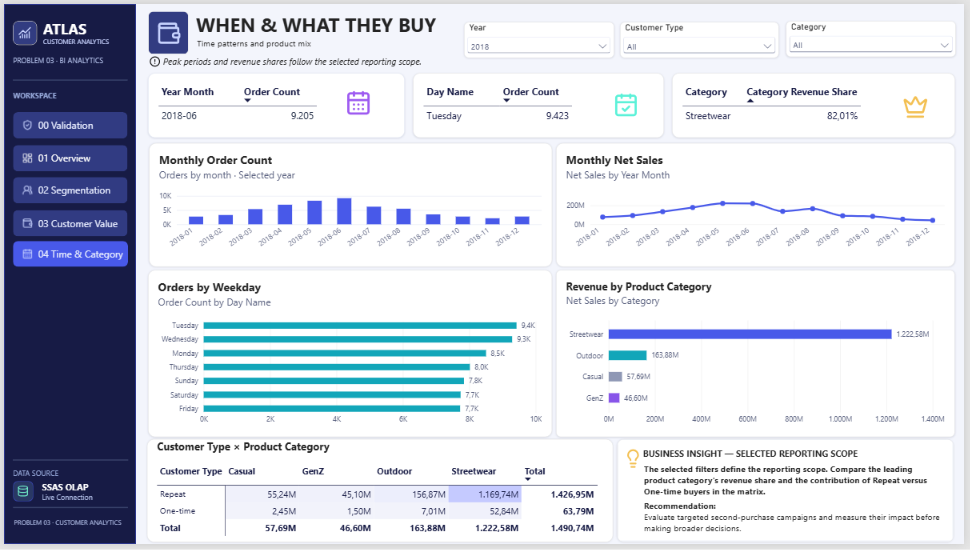

What the dashboard file says about the page in this screenshot:
{"tool":"powerbi","page":{"name":"04_Time_Category","canvas":[1600,900],"ordinal":4},"visuals":[{"type":"shape","box":[0,0,220,900],"z":0,"group":"g1"},{"type":"image","box":[238.3,86.3,26.7,18.3],"z":0,"group":"g3"},{"type":"columnChart","title":"Monthly Order Count","fields":{"Category":["Date.Year Month"],"Y":["V FACT ORDER OFFICIAL.Order Count"]},"box":[241.7,231.7,671.7,206.7],"z":0},{"type":"textbox","box":[65.5,24.3,134.3,32],"z":1000,"group":"g1"},{"type":"textbox","box":[264.5,84.4,816.7,28.3],"z":1000,"group":"g3"},{"type":"lineChart","title":"Monthly Net Sales","fields":{"Category":["Date.Year Month"],"Y":["V FACT SALES LINE OFFICIAL.Net Sales"]},"box":[920,231.7,665,206.7],"z":1000},{"type":"actionButton","box":[15.1,180,190.9,44.1],"z":2000,"group":"g1"},{"type":"clusteredBarChart","title":"Orders by Weekday","fields":{"Category":["Date.Day Name"],"Y":["V FACT ORDER OFFICIAL.Order Count"]},"box":[240,443.7,673.3,278.3],"z":2000},{"type":"actionButton","box":[14.7,395.7,191.7,42.9],"z":3000,"group":"g1"},{"type":"clusteredBarChart","title":"Revenue by Product Category","fields":{"Category":["Product.Category"],"Y":["V FACT SALES LINE OFFICIAL.Net Sales"]},"box":[920,443.7,665,278.3],"z":3000},{"type":"actionButton","box":[15.1,288.3,190.9,44.1],"z":4000,"group":"g1"},{"type":"pivotTable","fields":{"Columns":["Product.Category"],"Rows":["Customer.Customer Type"],"Values":["V FACT SALES LINE OFFICIAL.Net Sales"]},"box":[0,915,1920,165],"z":4000},{"type":"slicer","fields":{"Values":["Date.Year"]},"box":[766.7,30,250,60],"z":5000},{"type":"actionButton","box":[15.1,342.5,190.9,44.1],"z":5000,"group":"g1"},{"type":"slicer","fields":{"Values":["Customer.Customer Type"]},"box":[1027.2,30,265,60],"z":6000},{"type":"actionButton","box":[15.1,234.2,190.9,44.1],"z":6000,"group":"g1"},{"type":"shape","box":[14.3,28,40,40],"z":7000,"group":"g1"},{"type":"slicer","fields":{"Values":["Product.Category"]},"box":[1302.7,28,283.3,60],"z":7000},{"type":"group","id":"g1","title":"Group 1","box":[0,0,220,900],"z":8000},{"type":"image","box":[23.3,37,22,22],"z":8000,"group":"g1"},{"type":"group","id":"g2","title":"Group 2","box":[240,11.7,758.3,73.3],"z":9000},{"type":"textbox","box":[64.6,51.4,135,21.4],"z":9000,"group":"g1"},{"type":"textbox","box":[319.8,11.7,653.4,53.8],"z":10000,"group":"g2"},{"type":"textbox","box":[14.7,82.7,191.8,22.7],"z":10000,"group":"g1"},{"type":"group","id":"g3","title":"Group 4","box":[238.3,84.4,842.9,28.3],"z":10000},{"type":"textbox","box":[321,55.8,677.3,22.2],"z":11000,"group":"g2"},{"type":"tableEx","fields":{"Values":["Date.Year Month","V FACT ORDER OFFICIAL.Order Count"]},"box":[240,114.3,428.3,108.3],"z":11000},{"type":"shape","box":[14.3,120,190.9,13.6],"z":11000,"group":"g1"},{"type":"shape","box":[240,12.4,68.1,72.6],"z":12000,"group":"g2"},{"type":"textbox","box":[14.3,142,186,20],"z":12000,"group":"g1"},{"type":"image","box":[568.4,142.9,45,45],"z":12000},{"type":"image","box":[253.6,27,42.3,43.4],"z":13000,"group":"g2"},{"type":"tableEx","title":"Peak Weekday","fields":{"Values":["Date.Day Name","V FACT ORDER OFFICIAL.Order Count"]},"box":[681.7,114.3,418.3,108.3],"z":13000},{"type":"shape","box":[14.3,750,192,20],"z":13000,"group":"g1"},{"type":"tableEx","title":"Top Category","fields":{"Values":["Product.Category","Measures.Category Revenue Share"]},"box":[1113.3,114.3,471.7,108.3],"z":14000},{"type":"textbox","box":[14.3,772,170,20],"z":14000,"group":"g1"},{"type":"image","box":[1015.1,146.2,43.3,45],"z":15000},{"type":"shape","box":[14.3,795,34,34],"z":15000,"group":"g1"},{"type":"image","box":[1496.8,149.6,45,43.3],"z":16000},{"type":"image","box":[21.3,802,20,20],"z":16000,"group":"g1"},{"type":"pivotTable","title":"Customer Type × Product Category","fields":{"Columns":["Product.Category"],"Rows":["Customer.Customer Type"],"Values":["V FACT SALES LINE OFFICIAL.Net Sales"]},"box":[238.3,725,776.7,171.7],"z":17000},{"type":"textbox","box":[63.9,795,120,26.7],"z":17000,"group":"g1"},{"type":"shape","box":[1021.9,725.8,561.7,171.7],"z":18000,"group":"g4"},{"type":"textbox","box":[63.9,811.7,118.3,18.3],"z":18000,"group":"g1"},{"type":"image","box":[1031.7,737.2,33.3,41.3],"z":19000,"group":"g4"},{"type":"shape","box":[15,833.3,191.7,11.7],"z":19000,"group":"g1"},{"type":"textbox","box":[1066,739.2,300,33.1],"z":20000,"group":"g4"},{"type":"textbox","box":[16.7,853.3,190,20],"z":20000,"group":"g1"},{"type":"textbox","box":[1066.7,766.5,498.3,86.8],"z":21000,"group":"g4"},{"type":"textbox","box":[1066.7,834.3,508.3,49.6],"z":22000,"group":"g4"},{"type":"group","id":"g4","title":"Group 3","box":[1021.9,725.8,561.7,171.7],"z":22001}]}

Visuals, with their boxes on the page's 1600x900 design canvas (x1, y1, x2, y2). These are canvas units, not pixel positions in the 970x550 screenshot, which may show the page scaled, cropped or inside an application window:
shape: detection(0, 0, 220, 900)
image: detection(238, 86, 265, 105)
"Monthly Order Count" columnChart: detection(242, 232, 913, 438)
textbox: detection(66, 24, 200, 56)
textbox: detection(264, 84, 1081, 113)
"Monthly Net Sales" lineChart: detection(920, 232, 1585, 438)
actionButton: detection(15, 180, 206, 224)
"Orders by Weekday" clusteredBarChart: detection(240, 444, 913, 722)
actionButton: detection(15, 396, 206, 439)
"Revenue by Product Category" clusteredBarChart: detection(920, 444, 1585, 722)
actionButton: detection(15, 288, 206, 332)
pivotTable - Product.Category x Customer.Customer Type: detection(0, 915, 1920, 1080)
slicer - Date.Year: detection(767, 30, 1017, 90)
actionButton: detection(15, 342, 206, 387)
slicer - Customer.Customer Type: detection(1027, 30, 1292, 90)
actionButton: detection(15, 234, 206, 278)
shape: detection(14, 28, 54, 68)
slicer - Product.Category: detection(1303, 28, 1586, 88)
"Group 1" group: detection(0, 0, 220, 900)
image: detection(23, 37, 45, 59)
"Group 2" group: detection(240, 12, 998, 85)
textbox: detection(65, 51, 200, 73)
textbox: detection(320, 12, 973, 66)
textbox: detection(15, 83, 206, 105)
"Group 4" group: detection(238, 84, 1081, 113)
textbox: detection(321, 56, 998, 78)
tableEx - Date.Year Month x V FACT ORDER OFFICIAL.Order Count: detection(240, 114, 668, 223)
shape: detection(14, 120, 205, 134)
shape: detection(240, 12, 308, 85)
textbox: detection(14, 142, 200, 162)
image: detection(568, 143, 613, 188)
image: detection(254, 27, 296, 70)
"Peak Weekday" tableEx: detection(682, 114, 1100, 223)
shape: detection(14, 750, 206, 770)
"Top Category" tableEx: detection(1113, 114, 1585, 223)
textbox: detection(14, 772, 184, 792)
image: detection(1015, 146, 1058, 191)
shape: detection(14, 795, 48, 829)
image: detection(1497, 150, 1542, 193)
image: detection(21, 802, 41, 822)
"Customer Type × Product Category" pivotTable: detection(238, 725, 1015, 897)
textbox: detection(64, 795, 184, 822)
shape: detection(1022, 726, 1584, 898)
textbox: detection(64, 812, 182, 830)
image: detection(1032, 737, 1065, 778)
shape: detection(15, 833, 207, 845)
textbox: detection(1066, 739, 1366, 772)
textbox: detection(17, 853, 207, 873)
textbox: detection(1067, 766, 1565, 853)
textbox: detection(1067, 834, 1575, 884)
"Group 3" group: detection(1022, 726, 1584, 898)
